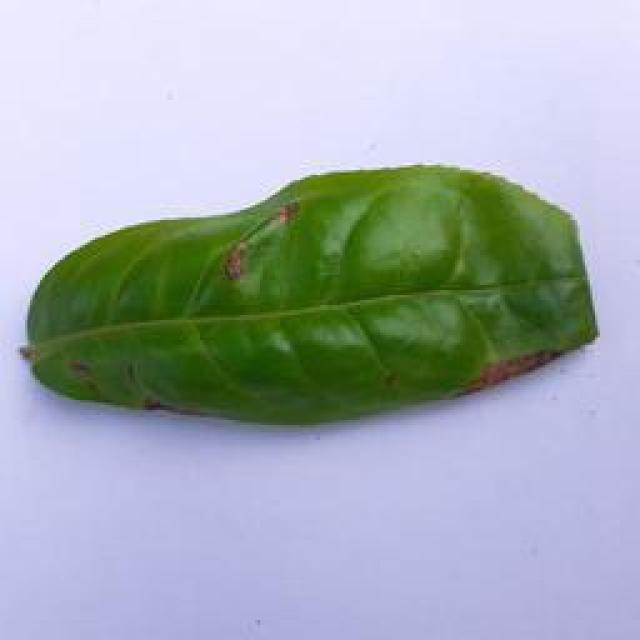Brown Blight: (28, 158, 611, 432)
